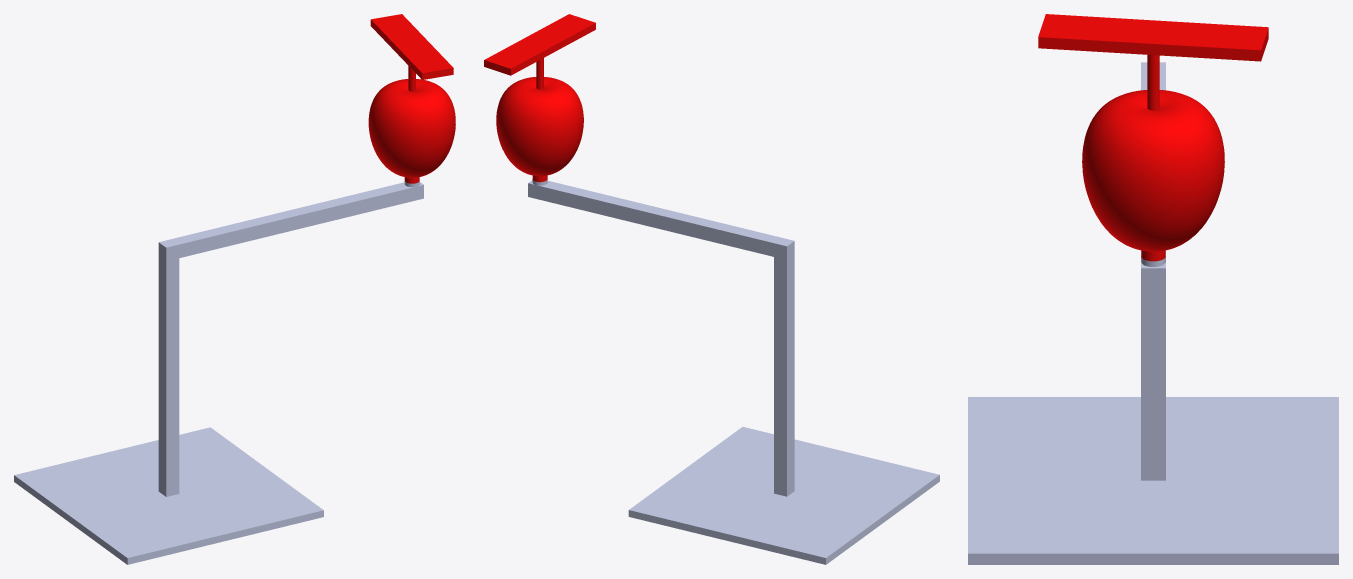
Rendered from berry_collada.dae.
3 views of the same model, side by side, from view 1: azimuth 30°, elevation 25°; view 2: azimuth 150°, elevation 25°; view 3: azimuth 270°, elevation 25° (orthographic). The views are drawn at different scales.
Parts seen in each view (by area): view 1: Body_1 (×2); view 2: Body_1 (×2); view 3: Body_1 (×2).
Part boxes in pixels (<box>): Body_1 (×2): <box>14,14,455,564</box>; Body_1 (×2): <box>484,14,939,564</box>; Body_1 (×2): <box>968,14,1338,564</box>.
Size of the model in its own units: 0.5794 by 0.3 by 0.579.
